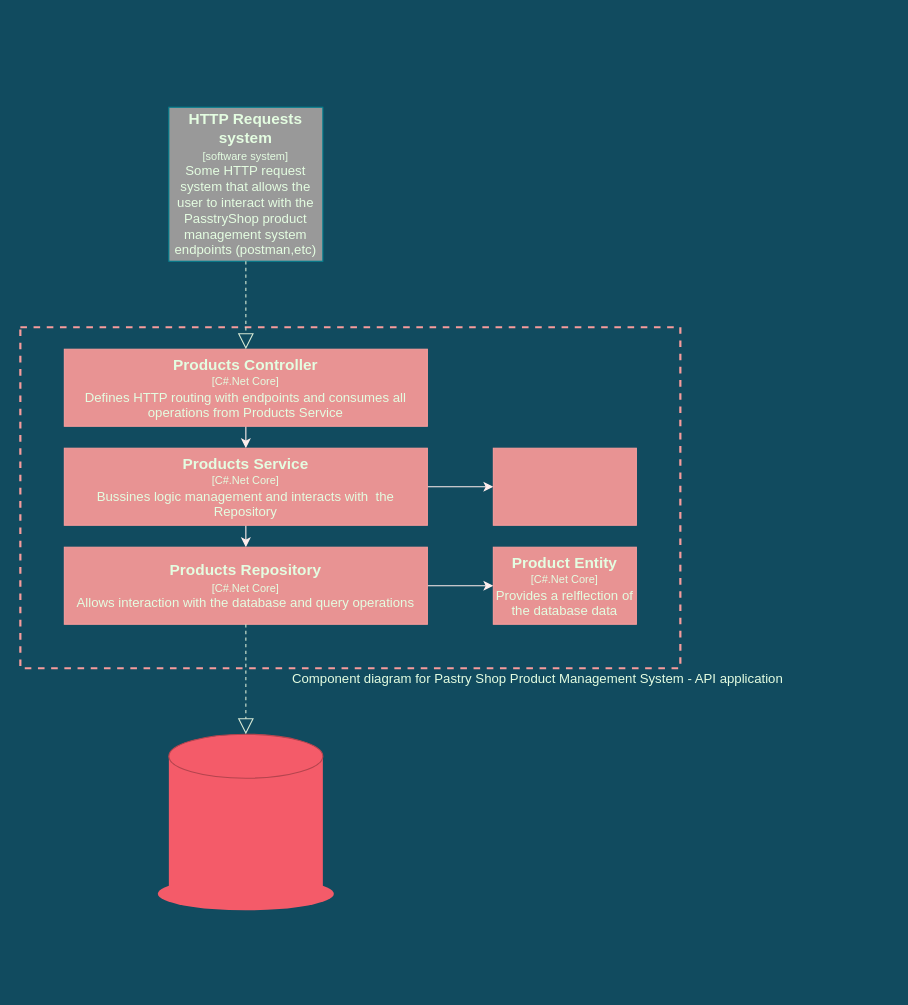
This 908x1005 diagram has some shape labels left out. Each missing label, with the box of its shape:
Database [Container Local DB schema for VisualStudio] Stores products info: (168, 756, 322, 888)
Product Model [C#.Net Core] Provides the model the user will receive: (492, 447, 636, 525)
